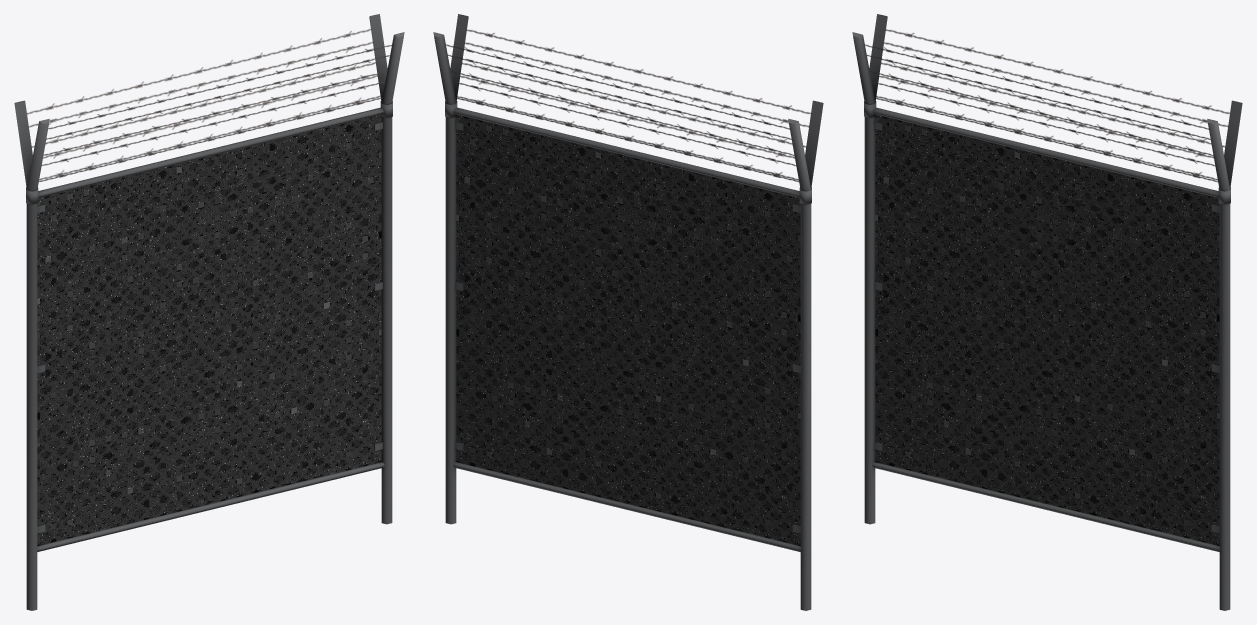
Rendered from barbed-wire-fence.glb.
3 renders of one model, left to right at view 1: azimuth 30°, elevation 25°; view 2: azimuth 150°, elevation 25°; view 3: azimuth 330°, elevation 25°, orthographic.
Parts seen in each view (by area): view 1: Cylinder.002 (×3); view 2: Cylinder.002 (×3); view 3: Cylinder.002 (×3).
Part boxes in pixels (bbox=[...]): Cylinder.002 (×3): bbox=[14, 14, 404, 610]; Cylinder.002 (×3): bbox=[433, 14, 823, 610]; Cylinder.002 (×3): bbox=[852, 14, 1242, 610].
Size of the model in its own units: 1.7 by 2.2 by 0.2321.
Materials: 3 (3 with a texture image).
